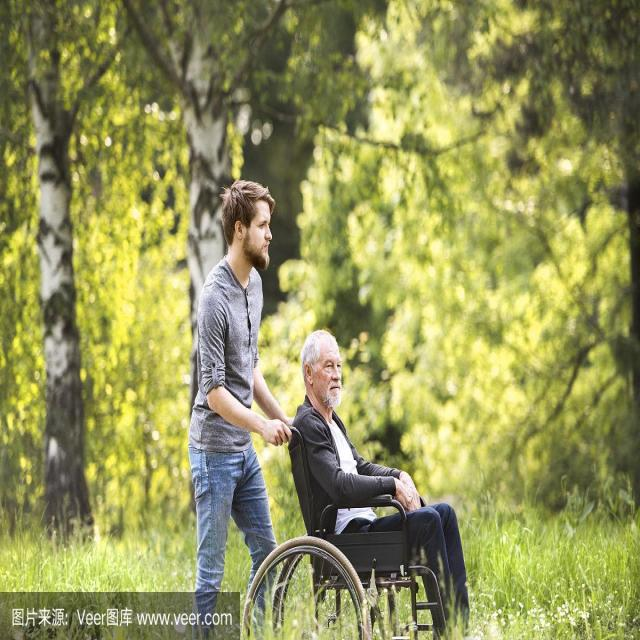wheelchairs: (240, 420, 476, 640)
